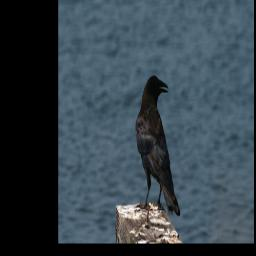Crow: (135, 74, 181, 220)
